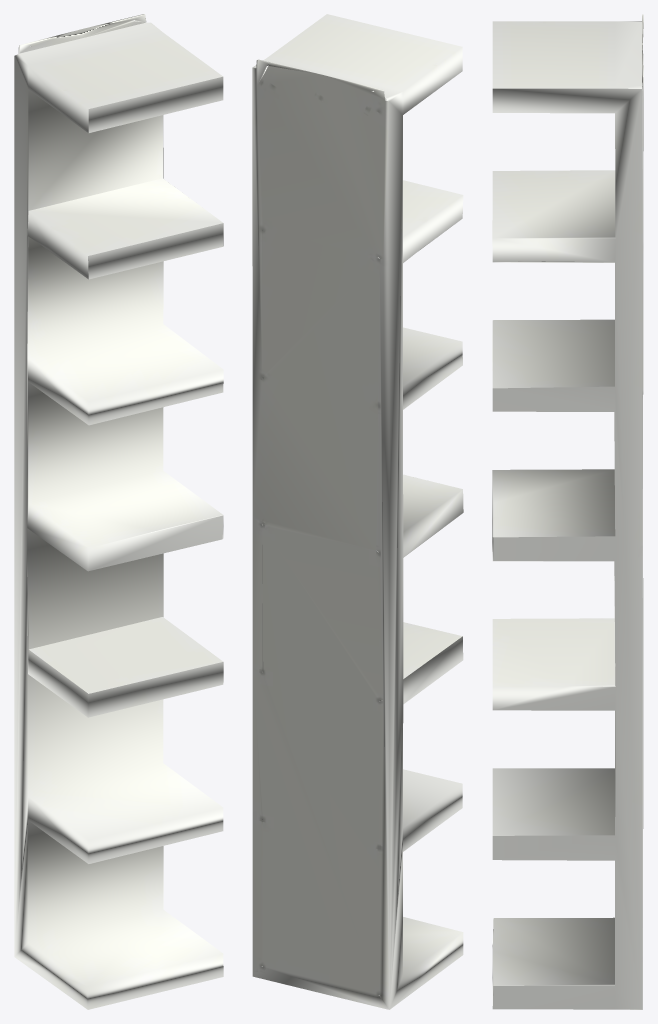
File: 04 - LACK - 上牆式層架組, 白色, 30x190 公分 IKEA 線上購物.glb
The picture shows the model from 3 angles, left to right: view 1: azimuth 30°, elevation 25°; view 2: azimuth 150°, elevation 25°; view 3: azimuth 270°, elevation 25°; orthographic projection. The views are drawn at different scales.
Parts seen in each view (by area): view 1: ProcessedMeshNode; view 2: ProcessedMeshNode; view 3: ProcessedMeshNode.
Boxes of the visible parts, bbox=[...] form: ProcessedMeshNode: bbox=[14, 14, 223, 1009]; ProcessedMeshNode: bbox=[252, 14, 463, 1009]; ProcessedMeshNode: bbox=[492, 14, 643, 1009].
Size of the model in its own units: 0.3017 by 1.92 by 0.2831.
1 material, 1 textured.
